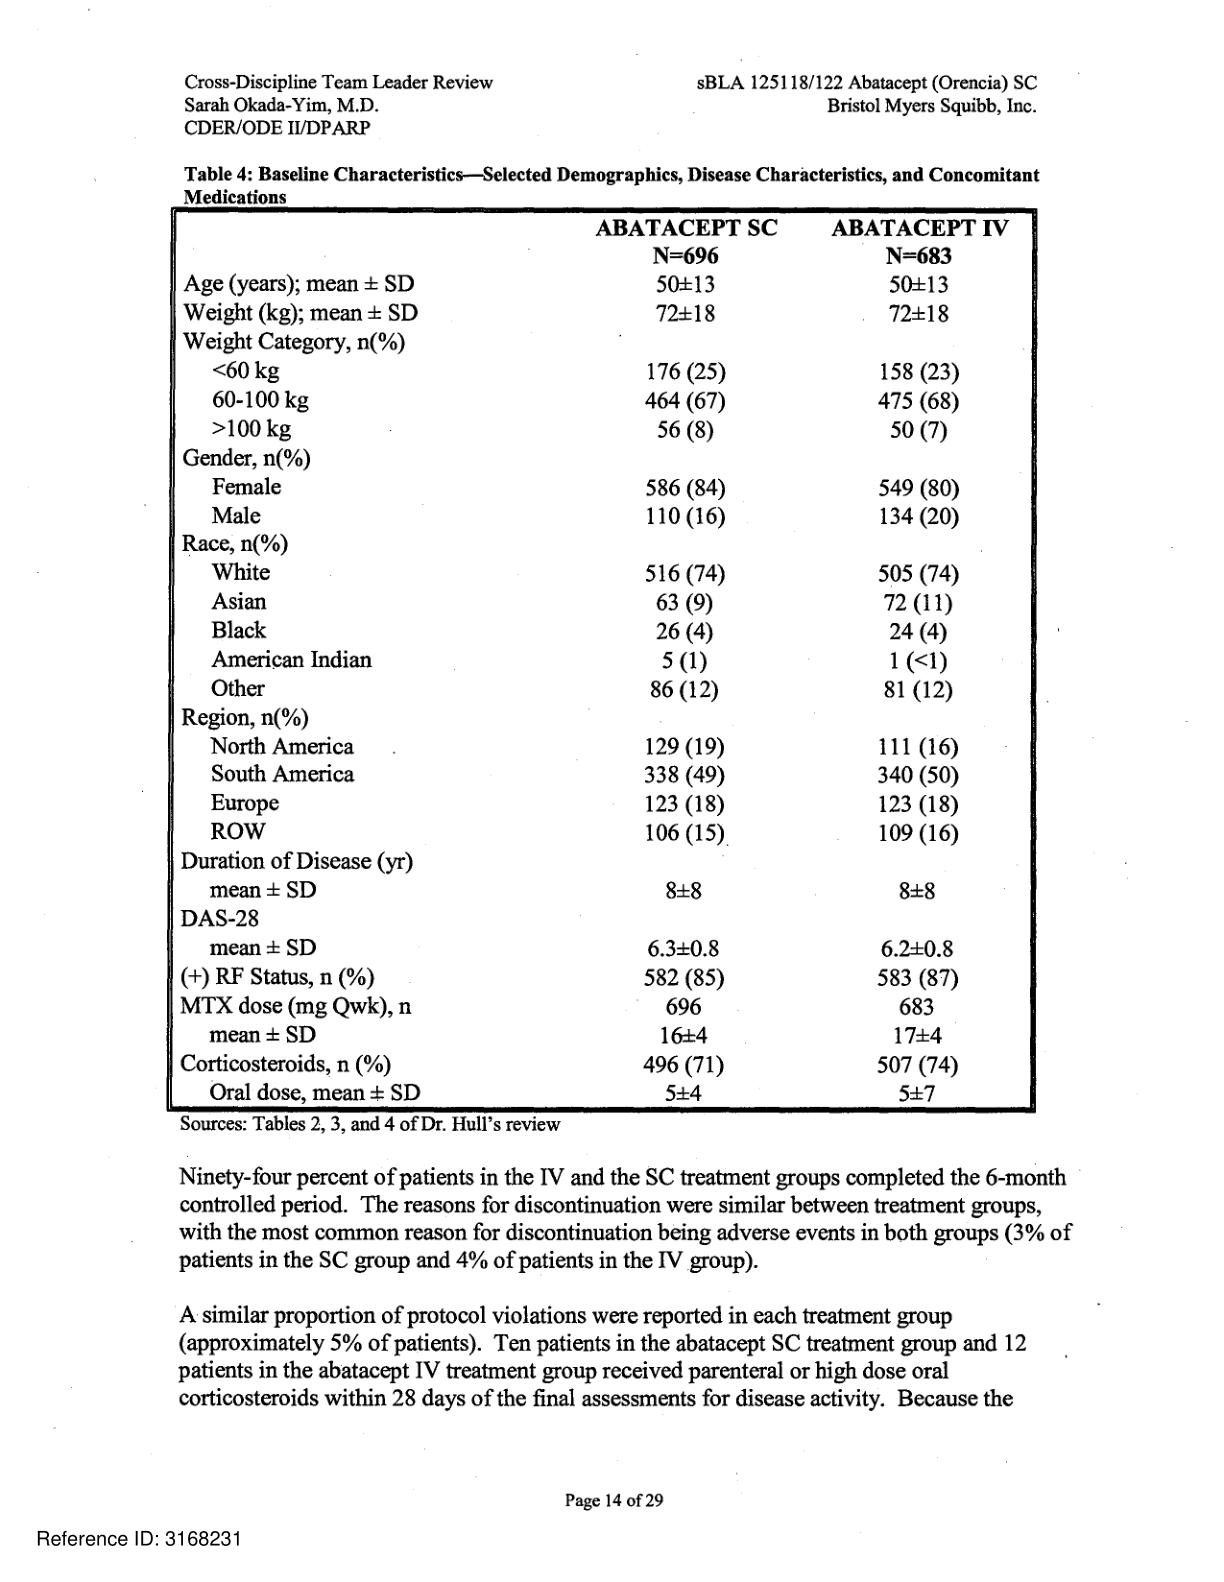partial_lined: (170, 205, 1038, 1113)
